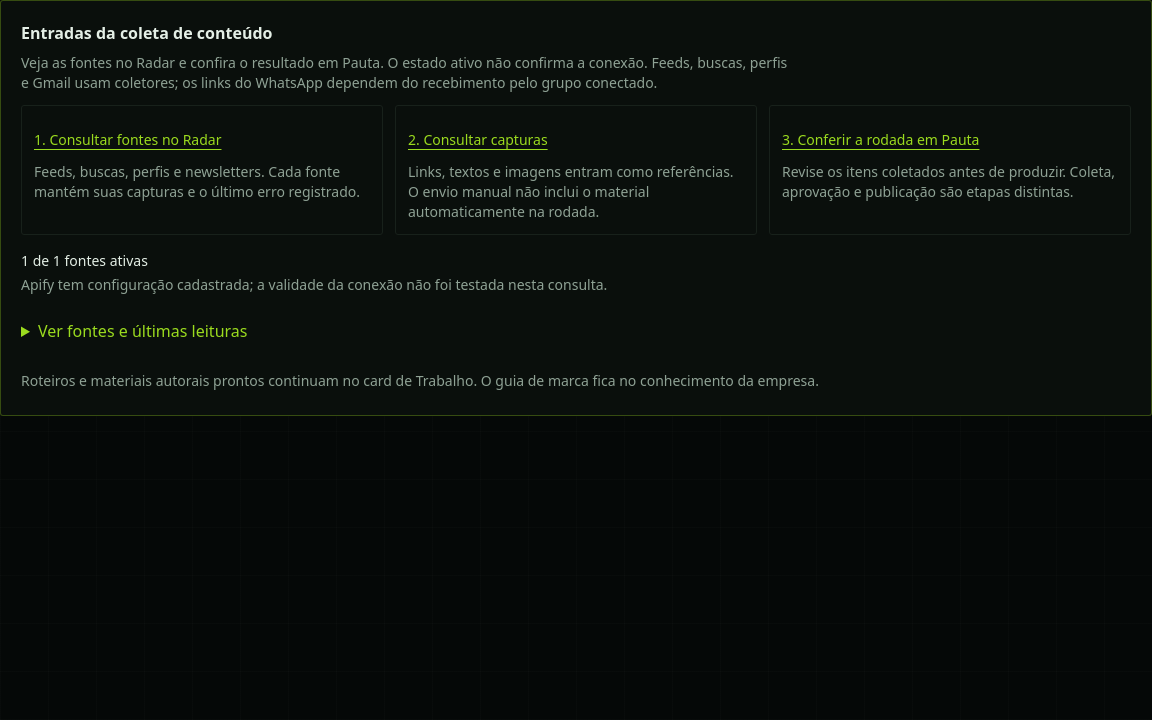
Test: entradas da coleta › configuração Apify e etiqueta Gmail não viram conexão confirmada
Click the heading "Ver fontes e últimas leituras": [143, 331] box top-left (38, 320), bottom-right (247, 342)
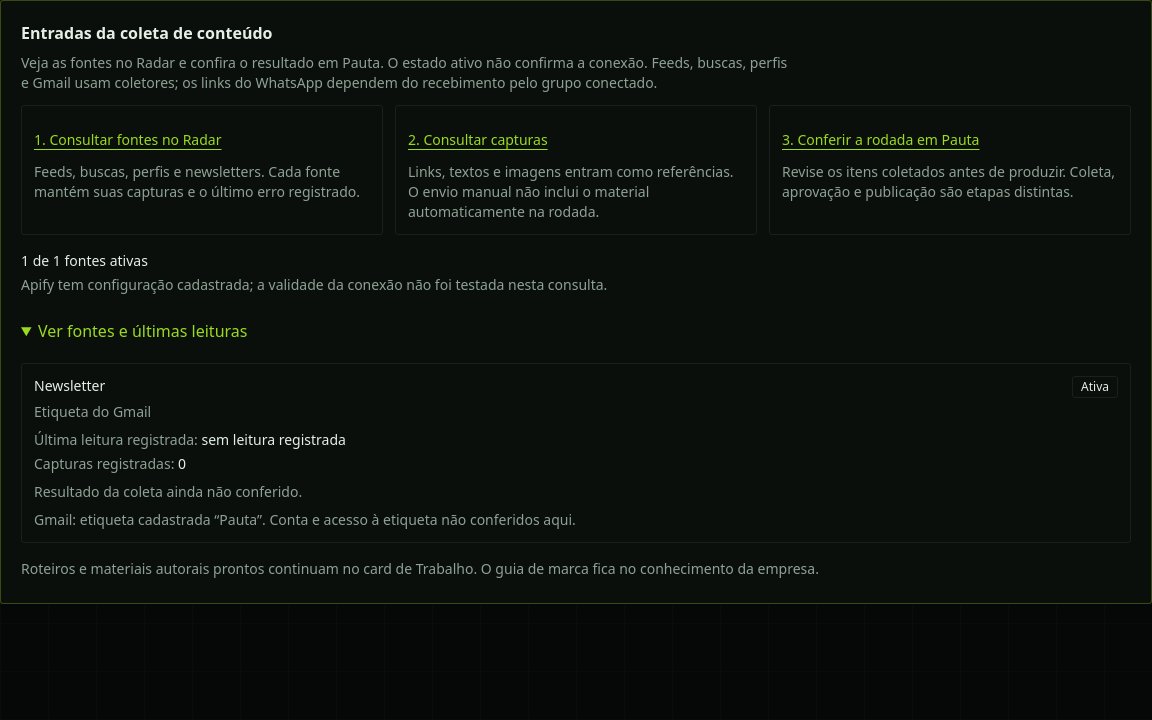
Check: the text "validade da conexão não foi testada" is shown, box top-left (21, 275), bottom-right (607, 294)
Check: the text "etiqueta cadastrada “Pauta”" shows "Conta e acesso à etiqueta não conferidos", box top-left (266, 510), bottom-right (576, 529)
